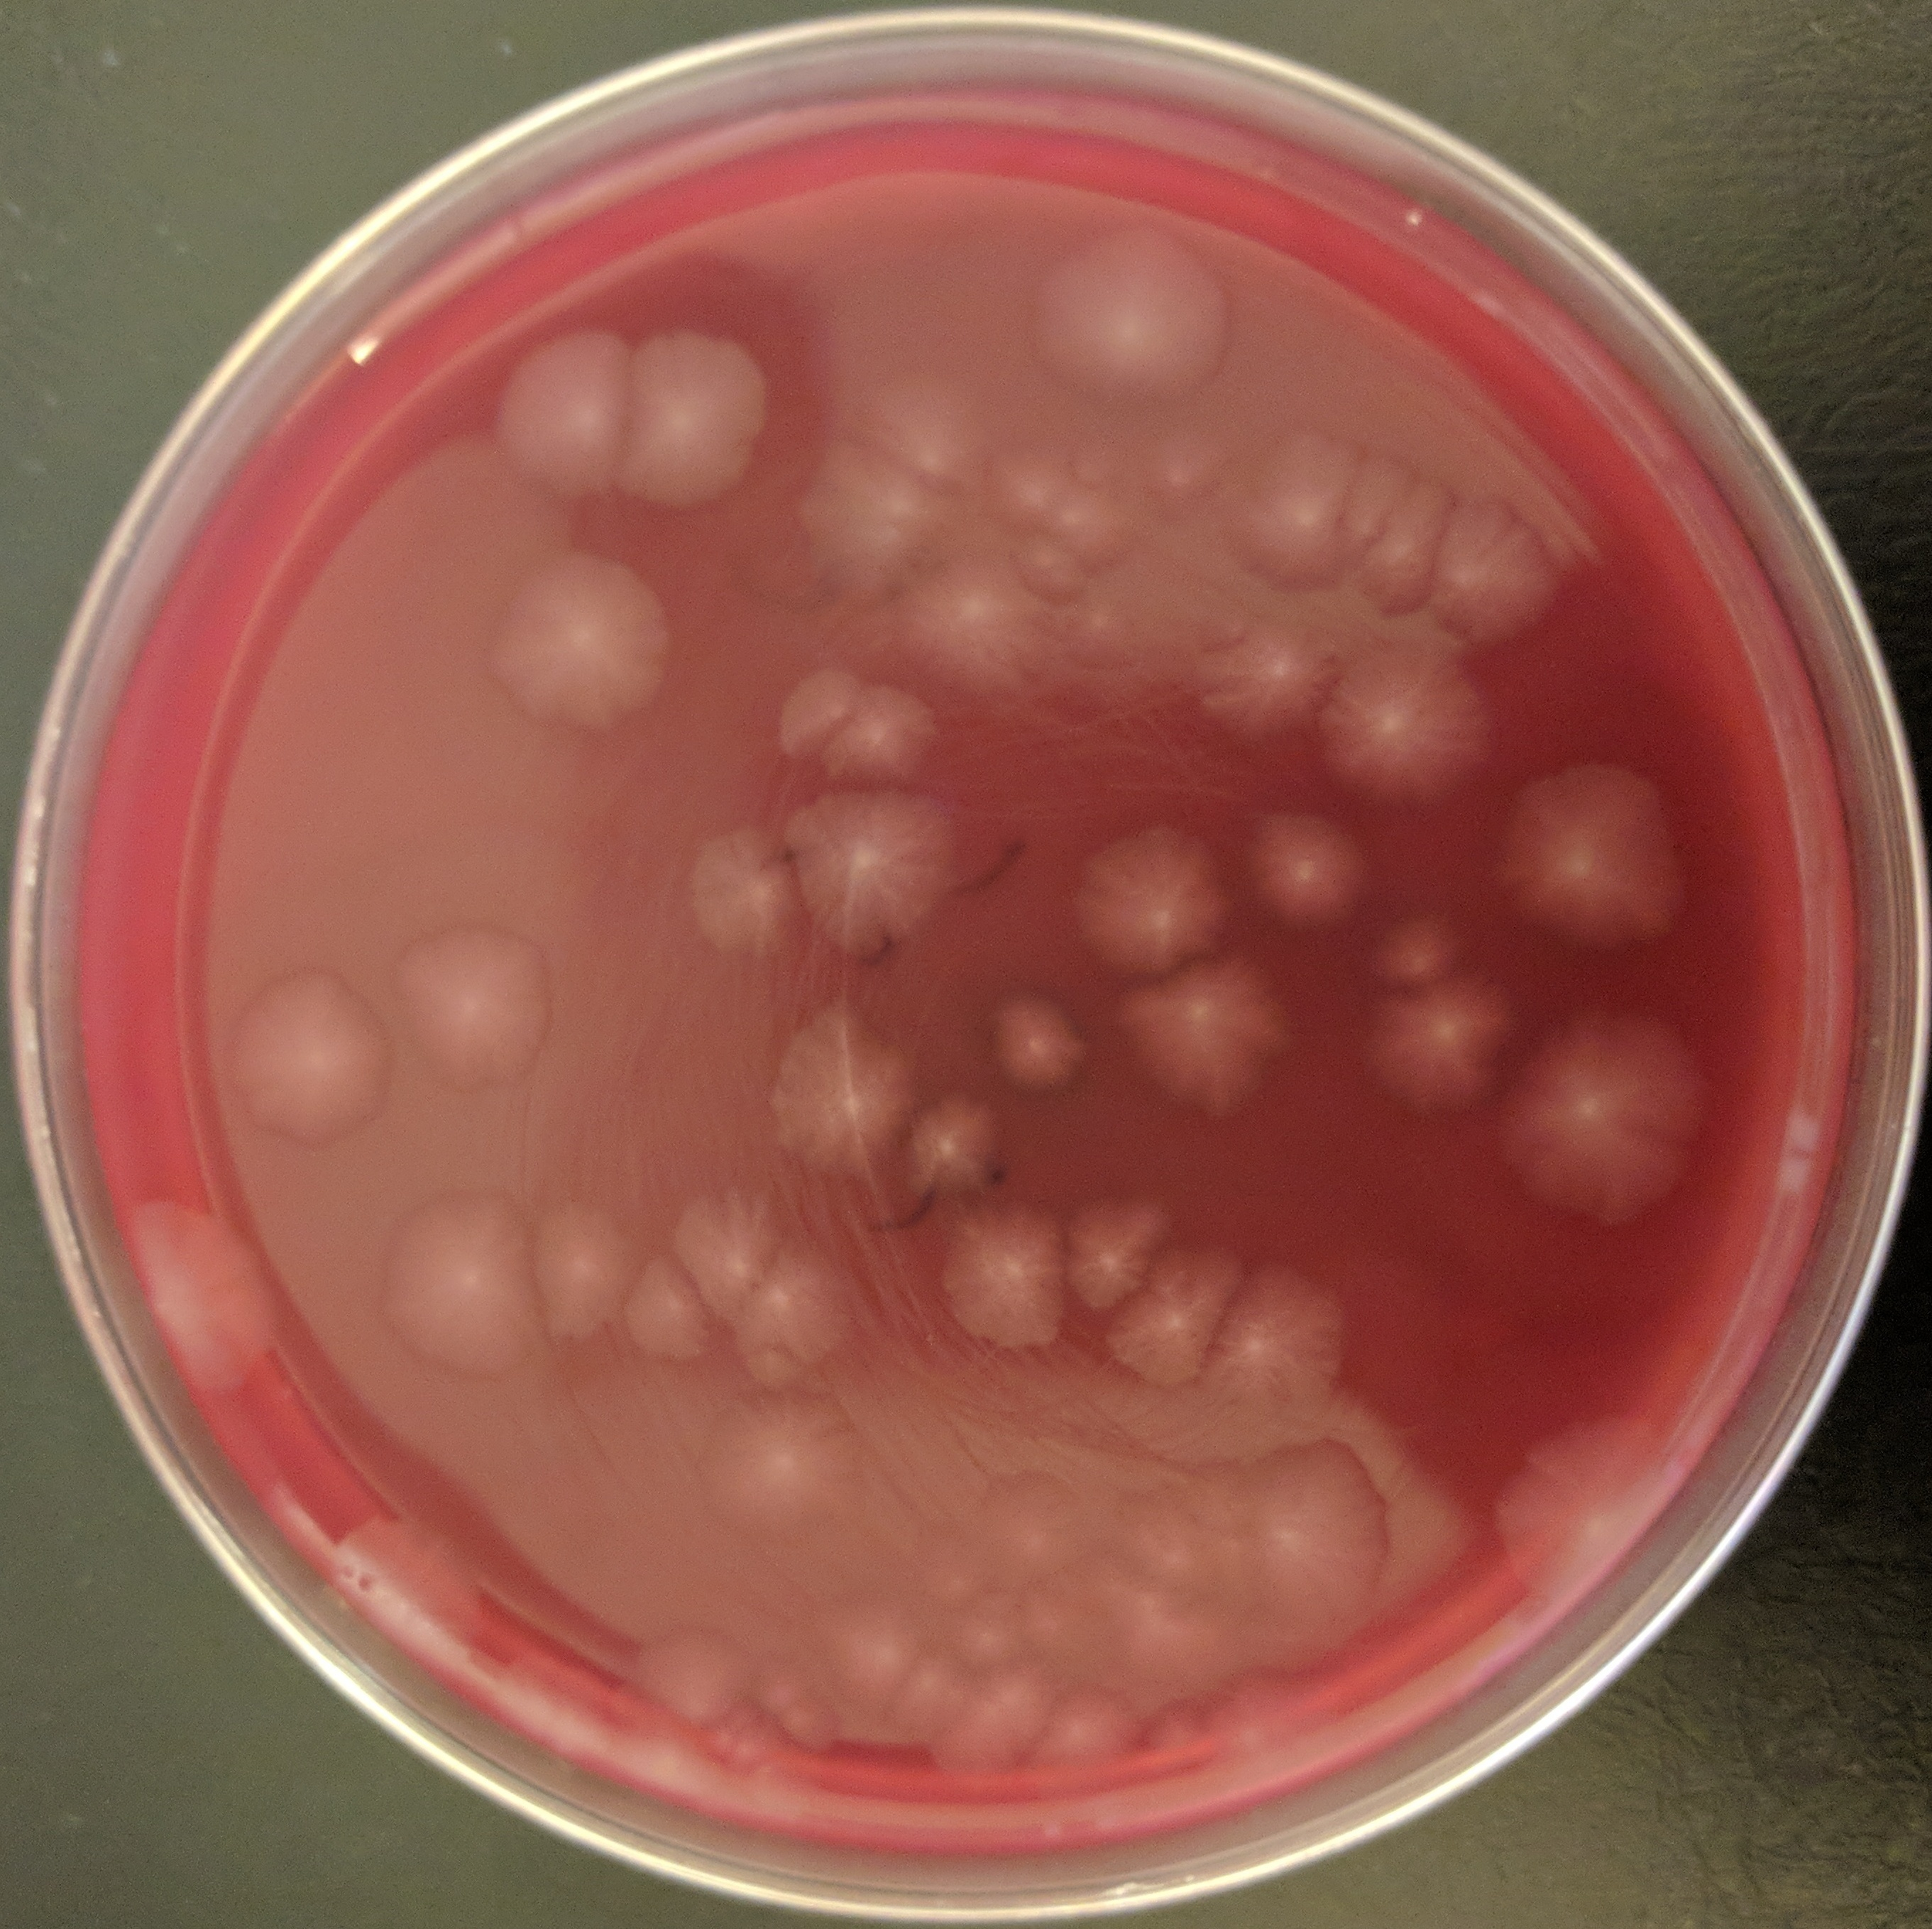sp08: (1503, 975, 1727, 1268), (1487, 742, 1708, 996), (989, 210, 1243, 406), (479, 532, 694, 763), (90, 1166, 291, 1408), (362, 899, 574, 1113), (208, 945, 396, 1159), (1324, 631, 1517, 827), (1114, 957, 1326, 1132), (1226, 1440, 1411, 1639), (779, 768, 948, 977), (1353, 950, 1529, 1138), (376, 1180, 542, 1376), (758, 1000, 931, 1185), (1432, 465, 1566, 700), (1224, 783, 1390, 964), (1489, 1427, 1687, 1576), (666, 798, 818, 991), (710, 1387, 860, 1565), (339, 1502, 521, 1648), (627, 325, 766, 516), (1219, 1261, 1369, 1438), (486, 321, 638, 495), (777, 449, 938, 608), (585, 1616, 766, 1752), (1204, 576, 1333, 756), (1051, 832, 1227, 961), (1344, 420, 1441, 643), (1249, 394, 1355, 588), (862, 350, 984, 518), (736, 1244, 869, 1394), (1104, 1231, 1219, 1404), (970, 1466, 1111, 1606), (938, 1210, 1090, 1339), (901, 560, 1054, 685), (1367, 885, 1496, 1033), (666, 1176, 789, 1327), (514, 1205, 630, 1355), (970, 975, 1100, 1102), (608, 1238, 703, 1388), (1058, 1176, 1162, 1311), (911, 1090, 1026, 1208), (728, 1664, 874, 1756), (1023, 1678, 1153, 1781), (759, 636, 848, 783), (1049, 574, 1158, 685), (918, 1691, 1042, 1788), (834, 687, 952, 770), (1150, 403, 1227, 523), (823, 1599, 918, 1696), (948, 1600, 1040, 1698), (977, 442, 1063, 532), (1051, 413, 1125, 511), (883, 1648, 957, 1742), (1058, 502, 1162, 567), (1210, 1673, 1328, 1726), (1136, 1691, 1219, 1751)
